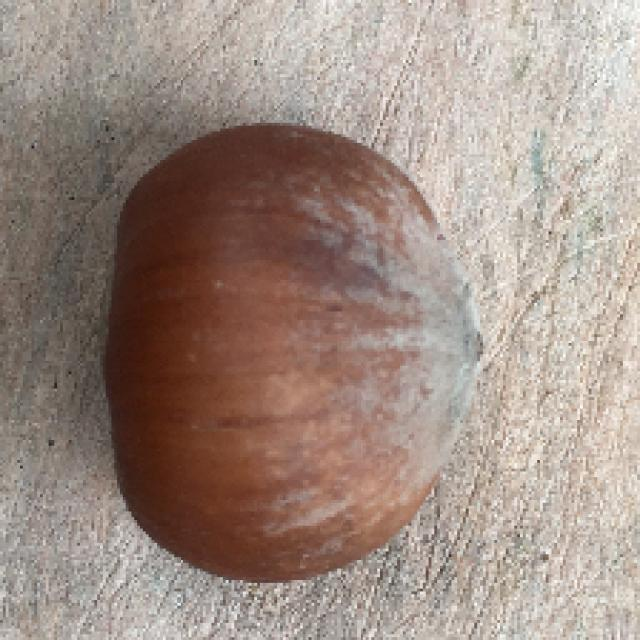qualityHazelnut: (86, 124, 494, 587)
